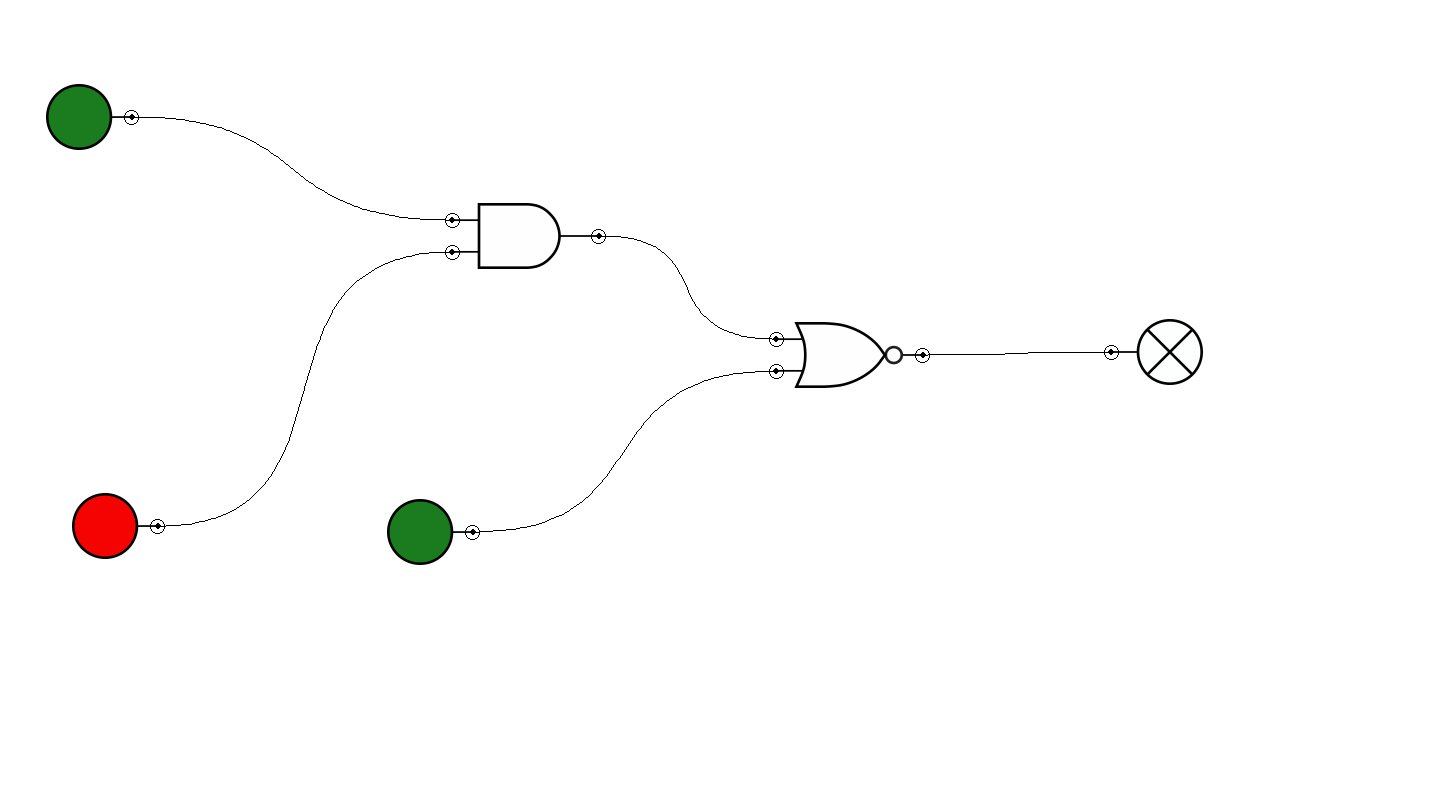and: (445, 203, 606, 269)
bulb: (1104, 319, 1203, 385)
nor: (769, 322, 930, 388)
switch_False: (72, 493, 165, 559)
switch_True: (387, 499, 480, 565), (46, 84, 139, 150)
